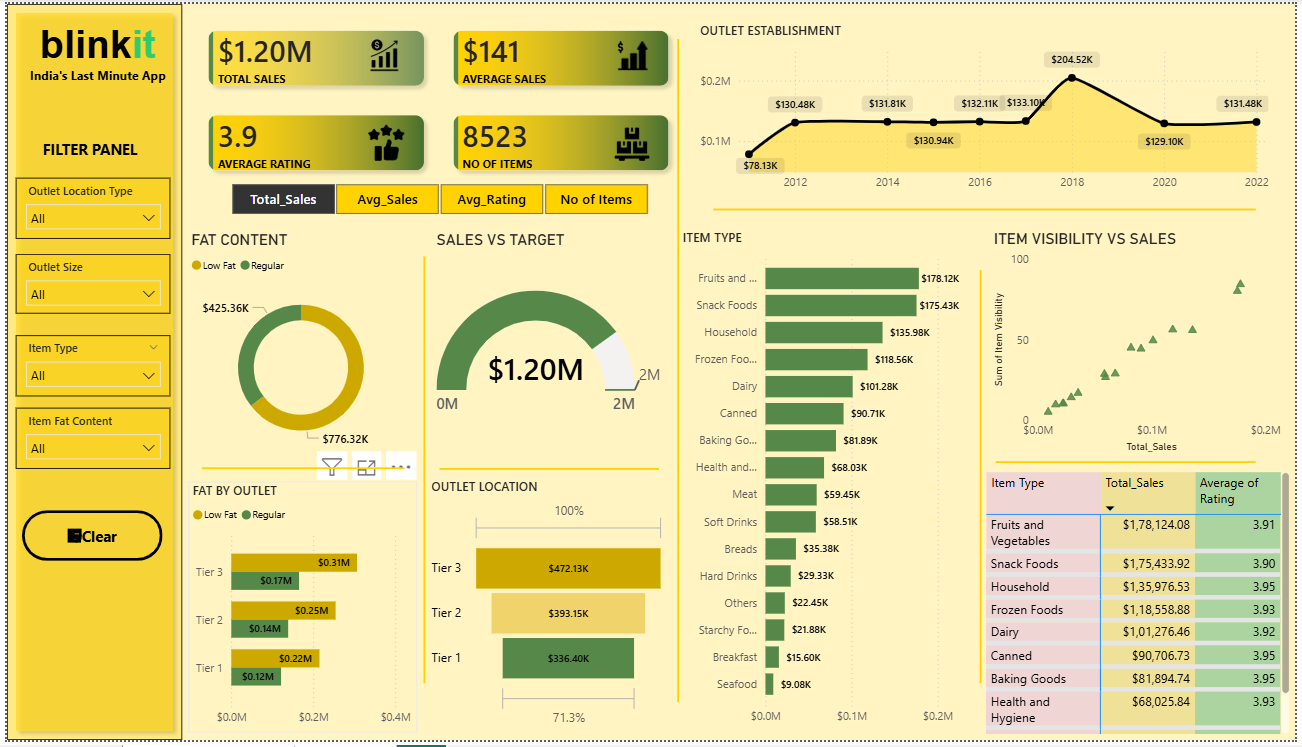

This screenshot's page, from the dashboard's own definition file:
{"tool":"powerbi","page":{"name":"Blinkit Dashboard","canvas":[1400,800],"ordinal":0},"visuals":[{"type":"cardVisual","fields":{"Data":["BlinkIT Grocery Data.Total_Sales","BlinkIT Grocery Data.Avg_Sales","BlinkIT Grocery Data.Avg_Rating_Per_Item","BlinkIT Grocery Data.No of Items"]},"box":[190.2,0,558.4,212],"z":0},{"type":"image","box":[388.6,38,43.5,35.3],"z":1000},{"type":"image","box":[659,39.4,42.1,34],"z":2000},{"type":"image","box":[392.7,130.4,39.4,40.8],"z":3000},{"type":"image","box":[659,133.2,40.8,38],"z":4000},{"type":"donutChart","title":"FAT CONTENT","fields":{"Y":["BlinkIT Grocery Data.Total_Sales"],"Category":["Items Content.Item Fat Content"]},"box":[195.7,245.3,248,252],"z":5000},{"type":"slicer","fields":{"Values":["Metrics.Metrics"]},"box":[218.8,188.9,501.4,46.2],"z":6000},{"type":"clusteredBarChart","title":"FAT BY OUTLET","fields":{"Category":["Outlet Location.Outlet Location Type"],"Y":["BlinkIT Grocery Data.Total_Sales"],"Series":["Items Content.Item Fat Content"]},"box":[197.1,518.8,248,273.5],"z":7000},{"type":"barChart","title":"ITEM TYPE","fields":{"Y":["BlinkIT Grocery Data.Total_Sales"],"Category":["Items.Item Type"]},"box":[729.6,244.6,327.4,547.6],"z":8000},{"type":"shape","box":[211.8,494.6,219.8,20.1],"z":9000},{"type":"shape","box":[443.7,274.8,18.8,463.8],"z":10000},{"type":"lineChart","title":"OUTLET ESTABLISHMENT","fields":{"Y":["BlinkIT Grocery Data.Total_Sales"],"Category":["Outlet Info.Outlet Establishment Year"]},"box":[748.6,19,627.7,192.9],"z":11000},{"type":"gauge","title":"SALES VS TARGET","fields":{"Y":["BlinkIT Grocery Data.Total_Sales"],"MinValue":["BlinkIT Grocery Data.Min Sales"],"MaxValue":["BlinkIT Grocery Data.Max Sales"],"TargetValue":["BlinkIT Grocery Data.Sales Target"]},"box":[462.5,245.3,258.7,252],"z":12000},{"type":"funnel","title":"OUTLET LOCATION","fields":{"Y":["BlinkIT Grocery Data.Total_Sales"],"Category":["Outlet Location.Outlet Location Type"]},"box":[457.1,514.7,264.1,277.5],"z":13000},{"type":"shape","box":[721.2,37.5,16.1,721.2],"z":14000},{"type":"pivotTable","fields":{"Rows":["Items.Item Type"],"Values":["BlinkIT Grocery Data.Total_Sales","Avg(BlinkIT Grocery Data.Rating)"]},"box":[1059.8,504.1,339.7,293.5],"z":15000},{"type":"shape","box":[0,0,190.6,800],"z":16000},{"type":"textbox","box":[9,15,178.6,79.5],"z":17000},{"type":"textbox","box":[34.5,141.1,118.6,34.5],"z":18000},{"type":"slicer","fields":{"Values":["Outlet Location.Outlet Location Type"]},"box":[9,189.1,168.1,66],"z":19000},{"type":"slicer","fields":{"Values":["Outlet Info.Outlet Size"]},"box":[9,271.7,168.1,64.5],"z":20000},{"type":"slicer","fields":{"Values":["Items.Item Type"]},"box":[9,360.2,168.1,66],"z":21000},{"type":"slicer","fields":{"Values":["Items Content.Item Fat Content"]},"box":[9,438.3,168.1,66],"z":22000},{"type":"actionButton","box":[16.1,550.9,152.8,55],"z":23000},{"type":"shape","box":[470.5,500,238.6,10.7],"z":24000},{"type":"shape","box":[1046.9,289.5,21.4,449.1],"z":25000},{"type":"shape","box":[768.1,211.8,589.8,22.8],"z":26000},{"type":"shape","box":[1074.7,491.9,282.6,12.2],"z":27000},{"type":"scatterChart","title":" ITEM VISIBILITY VS SALES","fields":{"X":["BlinkIT Grocery Data.Total_Sales"],"Y":["Sum(BlinkIT Grocery Data.Item Visibility)"],"Category":["Items.Item Type"]},"box":[1067.9,244.6,322,247.3],"z":28000}]}

Visuals, with their boxes in screenshot pixels (x1, y1, x2, y2), scaled from the page's 1400x800 canvas onto the 1302x747 screenshot:
cardVisual - BlinkIT Grocery Data.Total_Sales x BlinkIT Grocery Data.Avg_Sales: x1=177, y1=0, x2=696, y2=198
image: x1=361, y1=35, x2=402, y2=68
image: x1=613, y1=37, x2=652, y2=69
image: x1=365, y1=122, x2=402, y2=160
image: x1=613, y1=124, x2=651, y2=160
"FAT CONTENT" donutChart: x1=182, y1=229, x2=413, y2=464
slicer - Metrics.Metrics: x1=203, y1=176, x2=670, y2=220
"FAT BY OUTLET" clusteredBarChart: x1=183, y1=484, x2=414, y2=740
"ITEM TYPE" barChart: x1=679, y1=228, x2=983, y2=740
shape: x1=197, y1=462, x2=401, y2=481
shape: x1=413, y1=257, x2=430, y2=690
"OUTLET ESTABLISHMENT" lineChart: x1=696, y1=18, x2=1280, y2=198
"SALES VS TARGET" gauge: x1=430, y1=229, x2=671, y2=464
"OUTLET LOCATION" funnel: x1=425, y1=481, x2=671, y2=740
shape: x1=671, y1=35, x2=686, y2=708
pivotTable - Items.Item Type x BlinkIT Grocery Data.Total_Sales: x1=986, y1=471, x2=1301, y2=745
shape: x1=0, y1=0, x2=177, y2=746
textbox: x1=8, y1=14, x2=174, y2=88
textbox: x1=32, y1=132, x2=142, y2=164
slicer - Outlet Location.Outlet Location Type: x1=8, y1=177, x2=165, y2=238
slicer - Outlet Info.Outlet Size: x1=8, y1=254, x2=165, y2=314
slicer - Items.Item Type: x1=8, y1=336, x2=165, y2=398
slicer - Items Content.Item Fat Content: x1=8, y1=409, x2=165, y2=471
actionButton: x1=15, y1=514, x2=157, y2=566
shape: x1=438, y1=467, x2=659, y2=477
shape: x1=974, y1=270, x2=994, y2=690
shape: x1=714, y1=198, x2=1263, y2=219
shape: x1=999, y1=459, x2=1262, y2=471
" ITEM VISIBILITY VS SALES" scatterChart: x1=993, y1=228, x2=1293, y2=459
